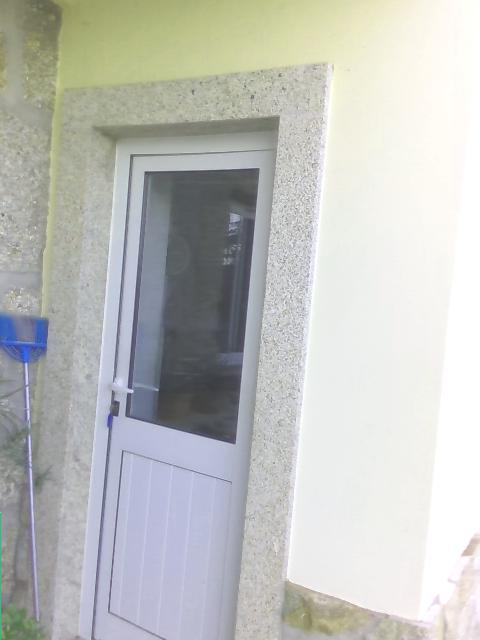closed_door: (74, 131, 278, 639)
